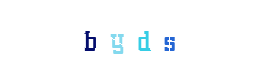B: (50, 0, 130, 80)
D: (95, 0, 175, 80)
S: (110, 0, 190, 80)
Y: (94, 0, 174, 80)
